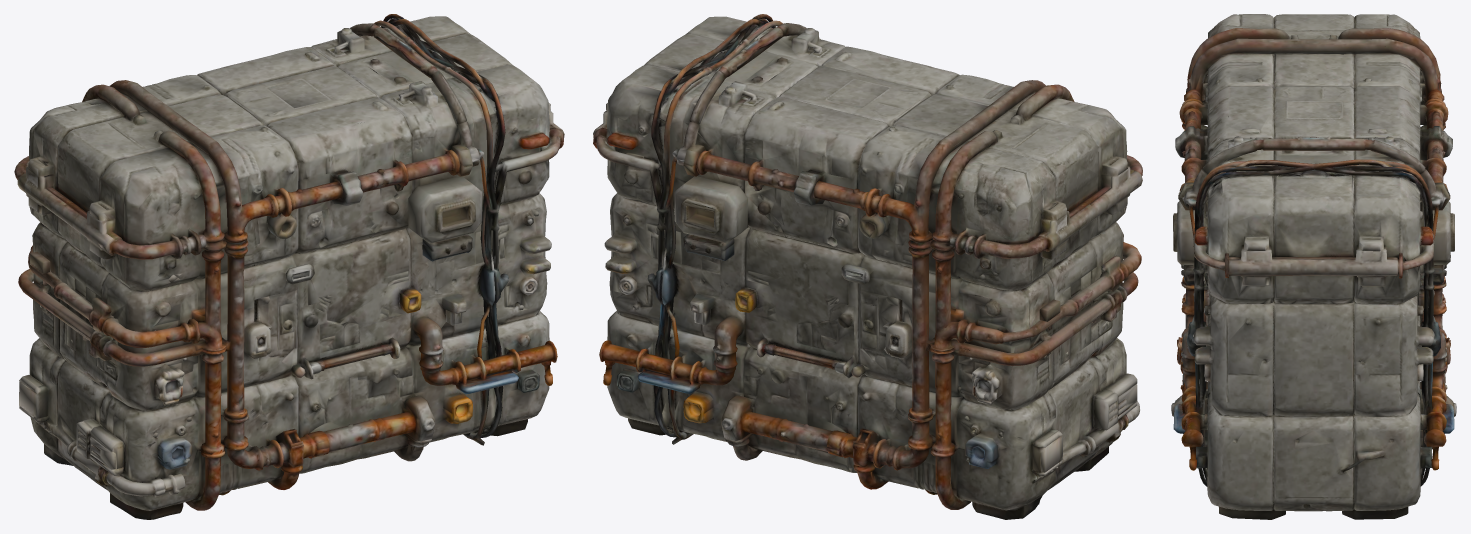
The model's file is tripo_convert_2d090886-5ecc-49d4-95fd-5d2658e70693.fbx.
3 views of the same model, side by side, from view 1: azimuth 30°, elevation 25°; view 2: azimuth 150°, elevation 25°; view 3: azimuth 270°, elevation 25° (orthographic). The views are drawn at different scales.
Visible parts, largest first — view 1: tripo_node_2d090886; view 2: tripo_node_2d090886; view 3: tripo_node_2d090886.
Part boxes in pixels (box(x1,y1,x2,y2)): tripo_node_2d090886: box(14, 14, 564, 519); tripo_node_2d090886: box(593, 14, 1142, 519); tripo_node_2d090886: box(1171, 14, 1456, 519).
Size of the model in its own units: 97.82 by 55.67 by 75.4.
1 material, 1 textured.
